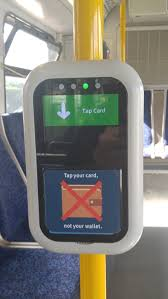terminal: (19, 53, 154, 261)
